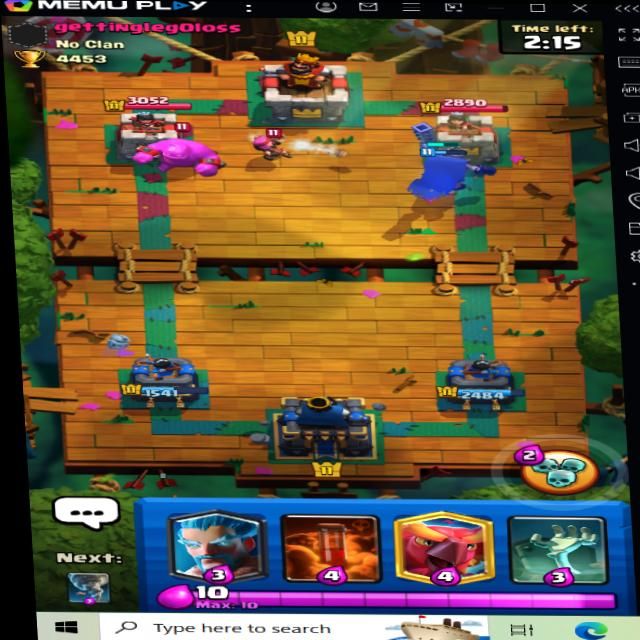electro-golem: (139, 122, 228, 178)
firecracker: (236, 124, 300, 166)
